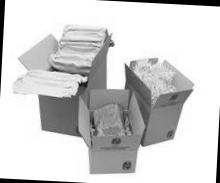cardboard: (70, 76, 151, 177)
